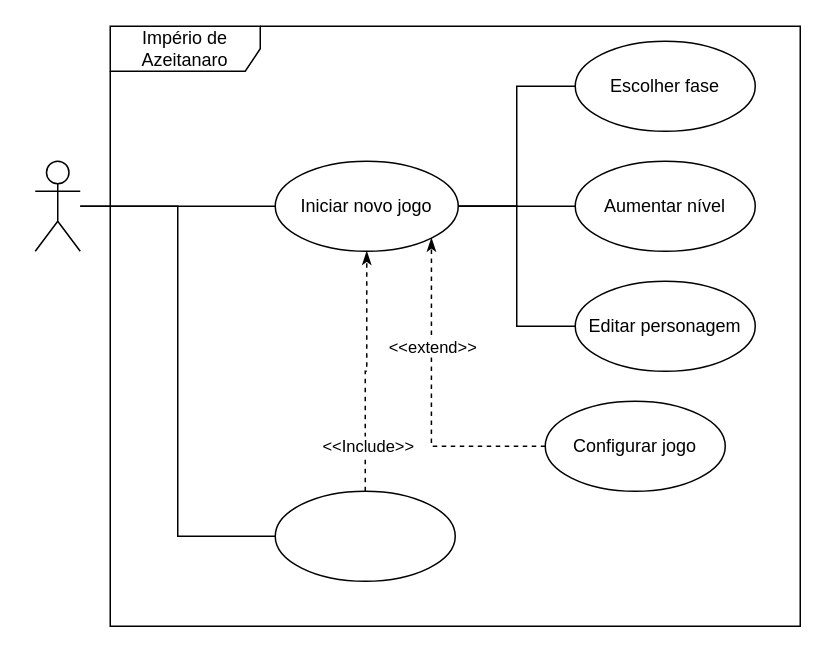
This 827x653 diagram has some shape labels left out. The shapes that lost their labels are listed below. From the top down, each one's centre as x and y in pixels, then its label:
At pixel 57 205: "Jogador".
At pixel 364 535: "Continuar jogo".
